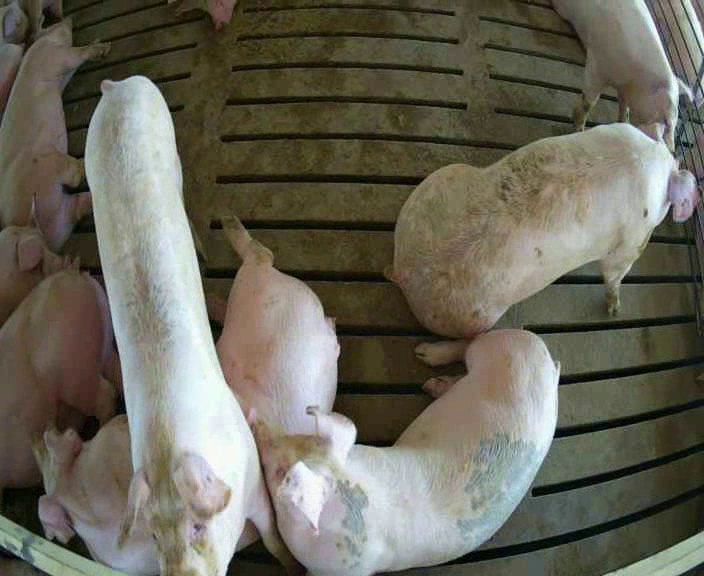pig: (248, 330, 558, 574), (384, 122, 695, 336), (0, 270, 119, 489), (0, 15, 108, 251), (554, 2, 692, 150), (0, 193, 79, 325)
